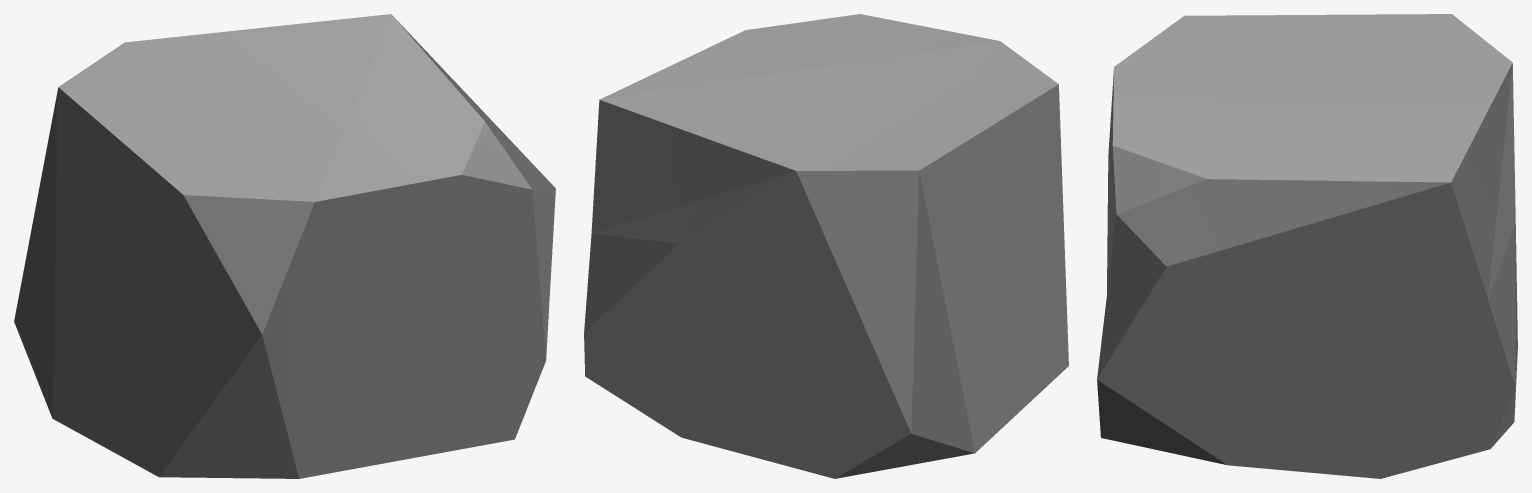
The model's file is wall_stone1.fbx.
The picture shows the model from 3 angles, left to right: view 1: azimuth 30°, elevation 25°; view 2: azimuth 150°, elevation 25°; view 3: azimuth 270°, elevation 25°; orthographic projection. The views are drawn at different scales.
Parts seen in each view (by area): view 1: wall_stone1; view 2: wall_stone1; view 3: wall_stone1.
Part boxes in pixels (x1=…): wall_stone1: x1=14, y1=14, x2=555, y2=478; wall_stone1: x1=584, y1=14, x2=1068, y2=478; wall_stone1: x1=1097, y1=14, x2=1517, y2=478.
Size of the model in its own units: 24.78 by 18.97 by 23.63.
